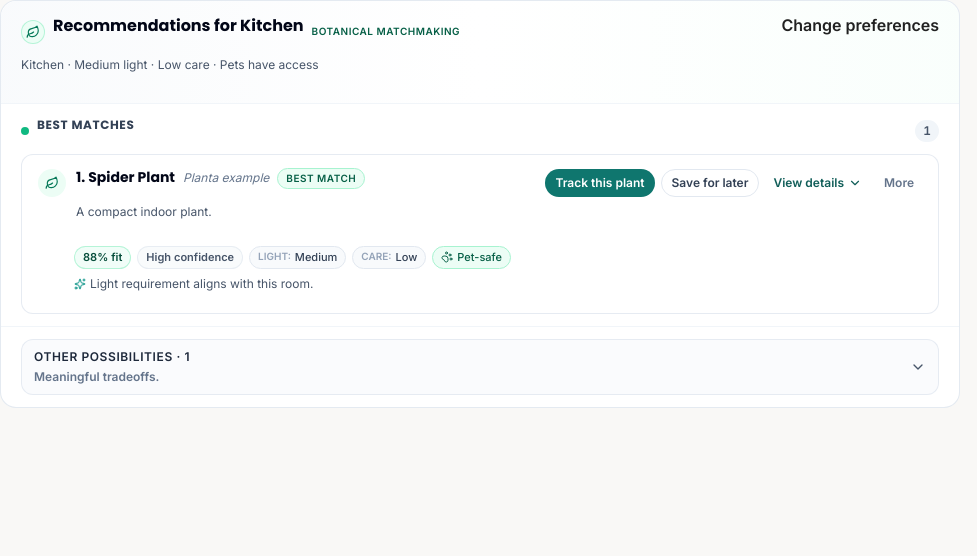
Test: reveals scannable care and placement guidance without expanding every recommendation
Click the button "View details".
click(818, 183)  # box [766,169,870,197]
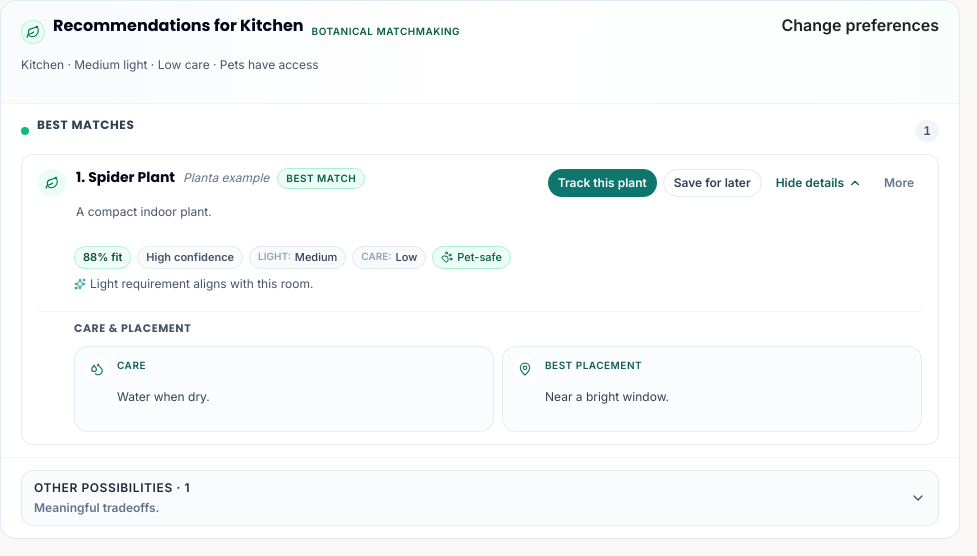
expect the heading "Care & placement" is shown: met, box [74,320,191,336]
expect the text "Water when dry." is shown: met, box [117,389,210,405]
expect the text "Near a bright window." is shown: met, box [545,389,669,405]
